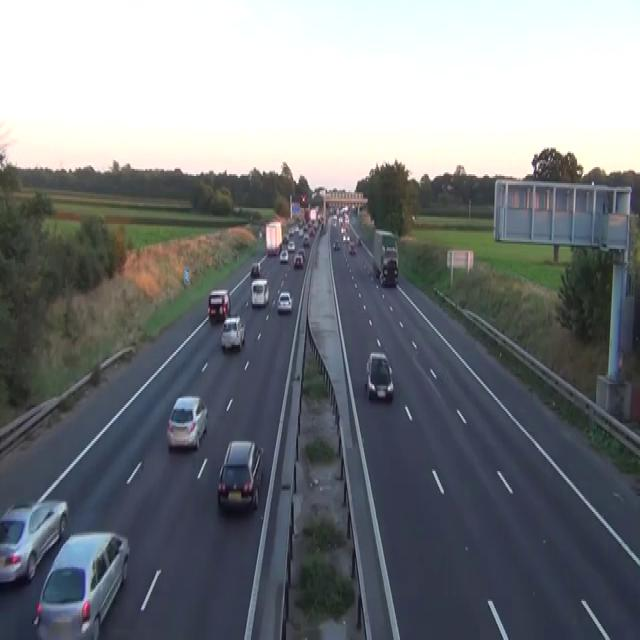Car: (32, 530, 130, 638), (0, 498, 68, 585), (217, 439, 264, 512), (166, 394, 207, 450), (365, 352, 394, 400), (220, 315, 245, 350), (207, 288, 230, 322), (250, 278, 269, 308), (380, 258, 398, 286), (382, 244, 398, 272), (277, 290, 293, 313), (250, 262, 260, 278), (293, 250, 303, 266), (384, 244, 397, 256), (267, 244, 278, 256), (279, 249, 288, 263), (287, 240, 295, 251), (302, 233, 309, 245), (348, 244, 356, 254), (332, 240, 340, 249), (308, 226, 315, 236), (321, 222, 326, 235), (288, 226, 296, 234), (343, 233, 350, 242), (233, 204, 240, 213), (282, 234, 288, 243), (300, 194, 306, 202), (340, 226, 346, 234), (356, 236, 361, 244), (258, 228, 262, 238), (298, 228, 303, 236), (344, 214, 349, 222)
Truck: (372, 228, 398, 284), (265, 220, 282, 256)
